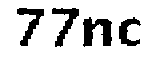7: (15, 4, 46, 51), (50, 6, 79, 50)
c: (118, 15, 144, 49)
n: (82, 14, 113, 52)
